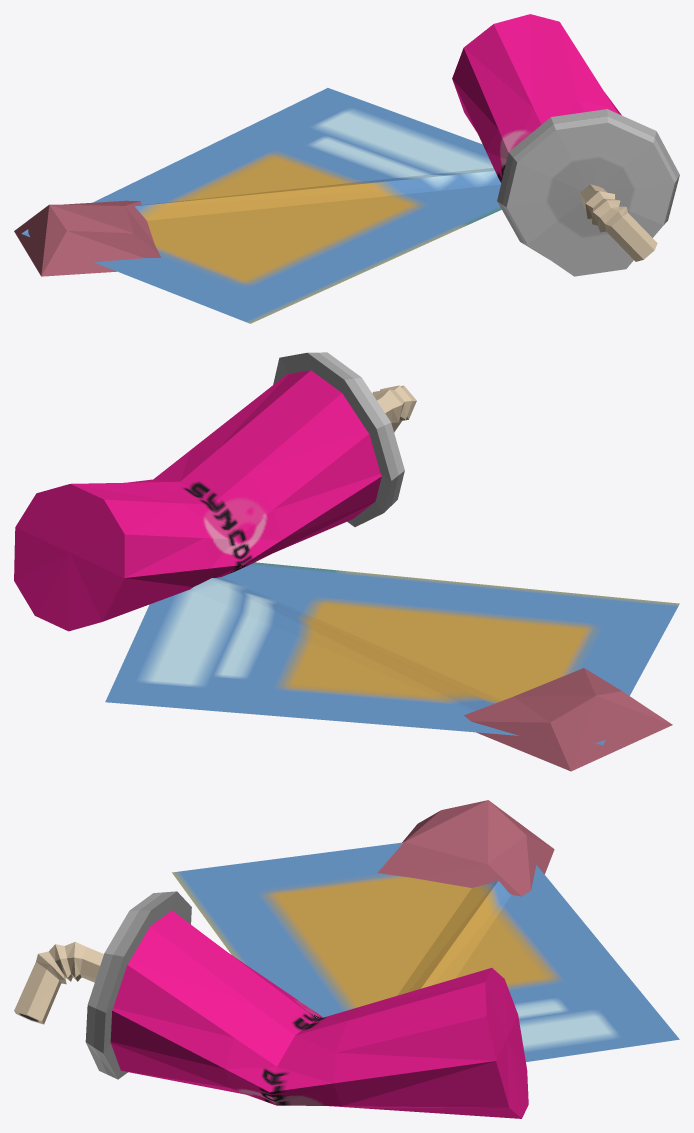
Rendered from SM_Prop_Rubbish_08.fbx.
3 views of the same model, one above another, from view 1: azimuth 30°, elevation 25°; view 2: azimuth 150°, elevation 25°; view 3: azimuth 270°, elevation 25° (orthographic). The views are drawn at different scales.
Parts seen in each view (by area): view 1: SM_Prop_Rubbish_08; view 2: SM_Prop_Rubbish_08; view 3: SM_Prop_Rubbish_08.
Boxes of the visible parts, x1,y1,x2,y2 form: SM_Prop_Rubbish_08: [14, 14, 679, 323]; SM_Prop_Rubbish_08: [14, 352, 679, 771]; SM_Prop_Rubbish_08: [14, 800, 679, 1118].
Bounding box in the file's own units: 46.26 × 11.86 × 41.46.
